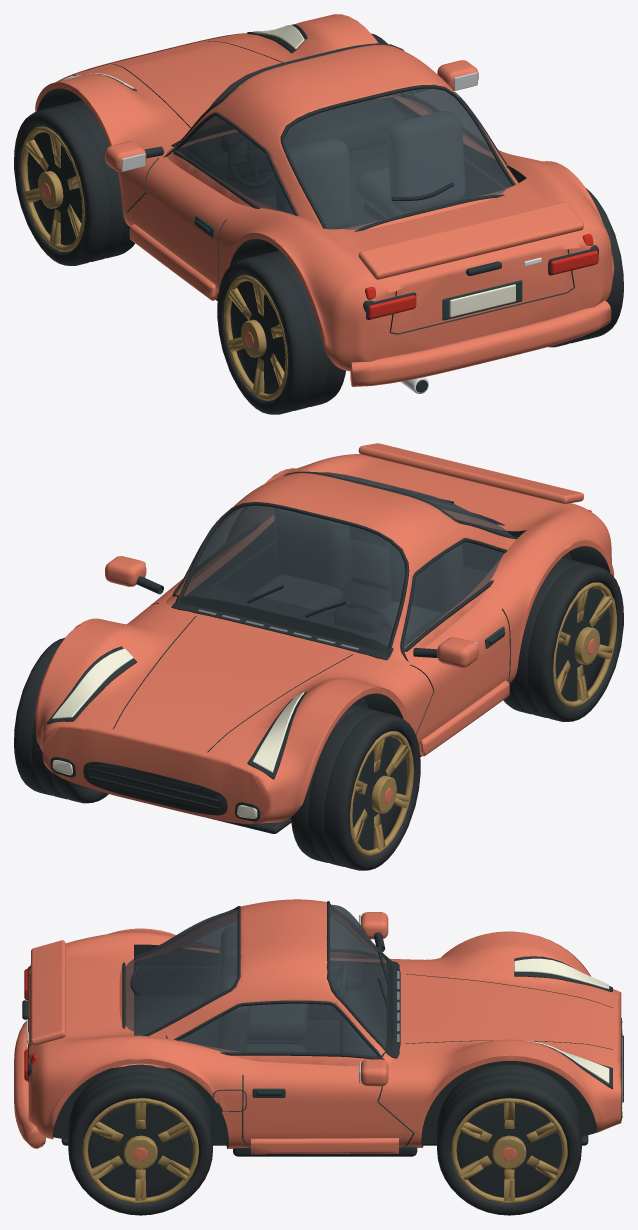
Rendered from kaze_lod1.fbx.
3 renders of one model, top to bottom at view 1: azimuth 30°, elevation 25°; view 2: azimuth 150°, elevation 25°; view 3: azimuth 270°, elevation 25°, orthographic. The views are drawn at different scales.
Parts seen in each view (by area): view 1: Body, Wheel_RL_Mesh, Wheel_FL_Mesh, Wheel_RR_Mesh; view 2: Body, Wheel_FL_Mesh, Wheel_RL_Mesh, Wheel_FR_Mesh; view 3: Body, Wheel_FR_Mesh, Wheel_RR_Mesh.
Part boxes in pixels (left/top/right/bottom): Body: left=35, top=14, right=614, bottom=393; Wheel_RL_Mesh: left=217, top=250, right=345, bottom=414; Wheel_FL_Mesh: left=14, top=100, right=134, bottom=265; Wheel_RR_Mesh: left=548, top=188, right=623, bottom=347; Body: left=35, top=443, right=614, bottom=833; Wheel_FL_Mesh: left=291, top=704, right=420, bottom=870; Wheel_RL_Mesh: left=503, top=557, right=623, bottom=721; Wheel_FR_Mesh: left=14, top=638, right=108, bottom=803; Body: left=14, top=899, right=623, bottom=1156; Wheel_FR_Mesh: left=437, top=1064, right=581, bottom=1215; Wheel_RR_Mesh: left=68, top=1064, right=212, bottom=1215.
Bounding box in the file's own units: 231 × 147 × 371.
